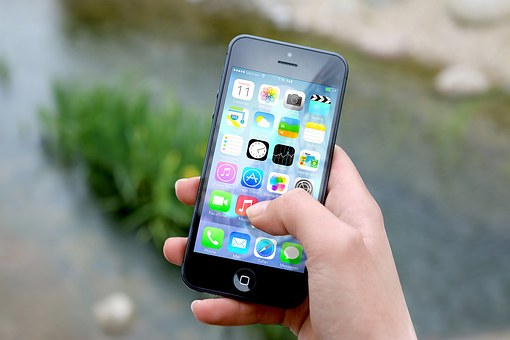mobile: (192, 20, 348, 302)
